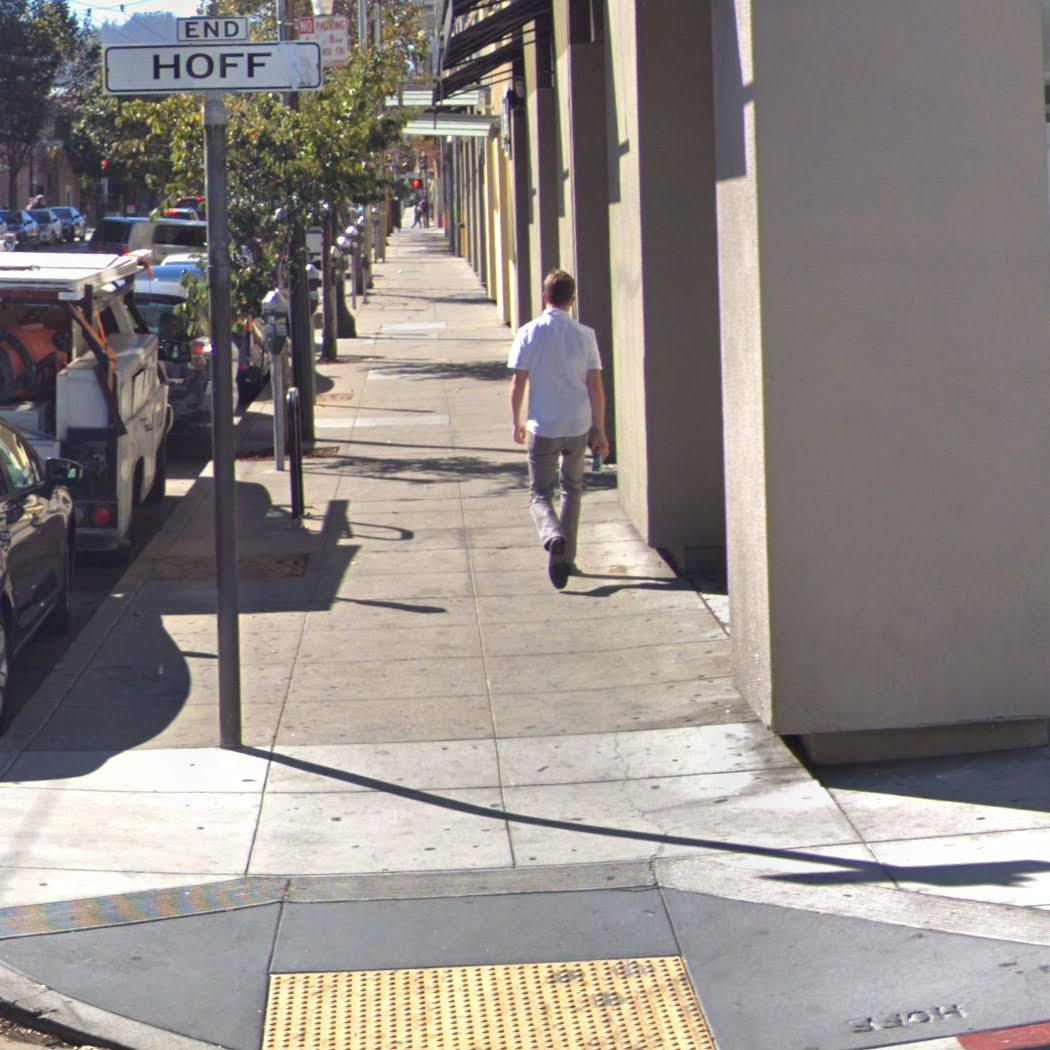No Parking: (296, 17, 346, 66)
